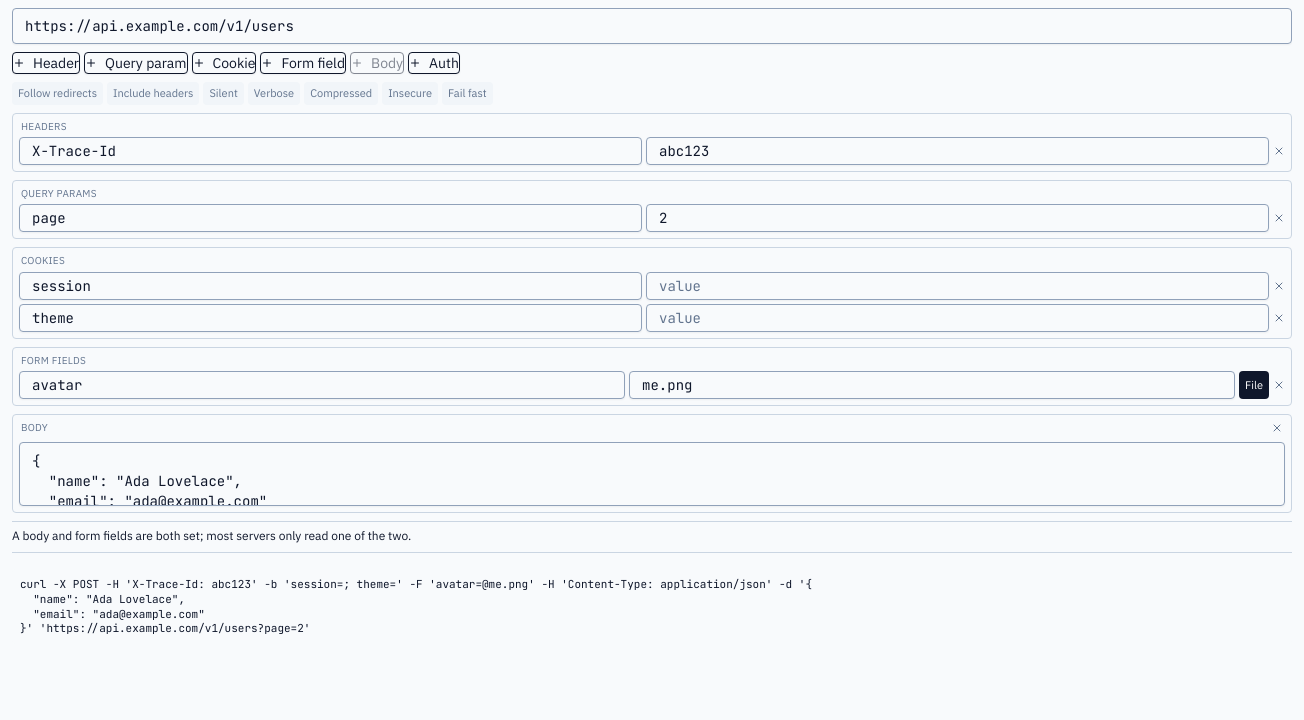
Test case: CurlBuilderWidget › disables adding a second body block, and removing the first re-enables it
expect the button "Body" is disabled: met, box [350,52,404,74]
Click the button named "Remove body block" at (1277, 428), box [1271,422,1283,434]
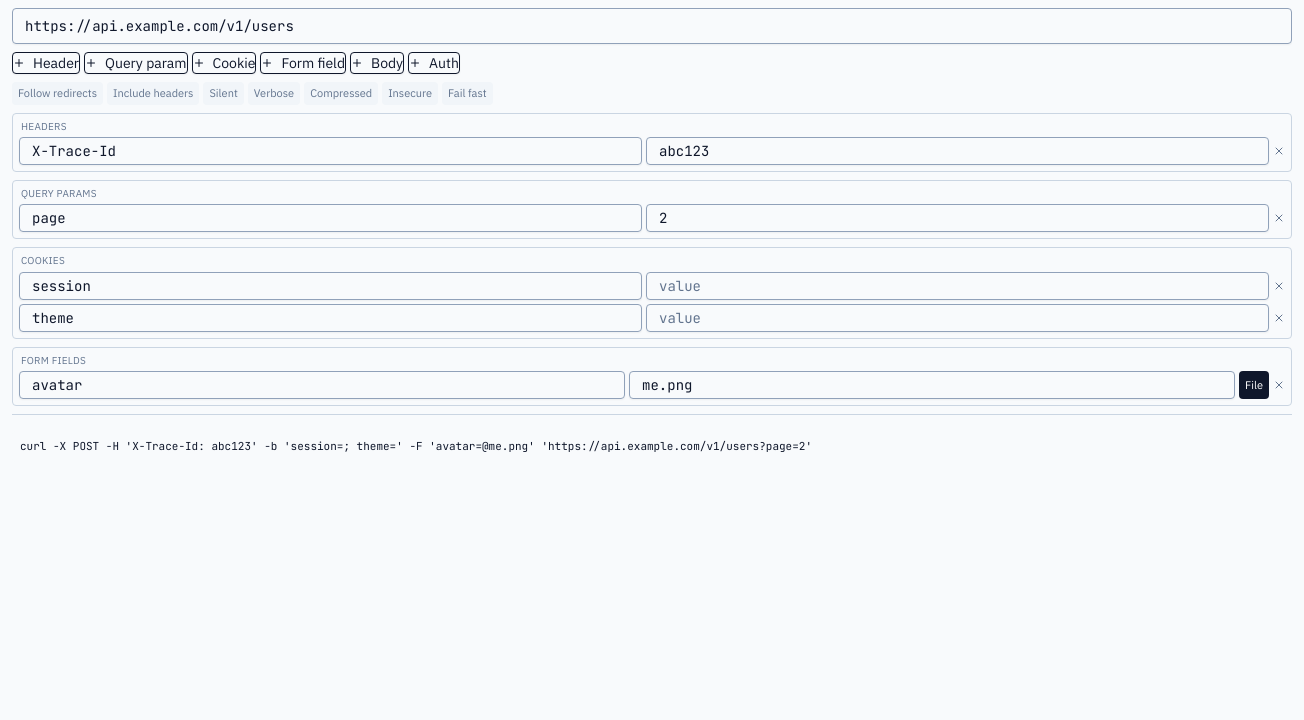
expect the button "Body" is enabled: met, box [350,52,404,74]
expect the text "curl " no longer shows "-d": met
